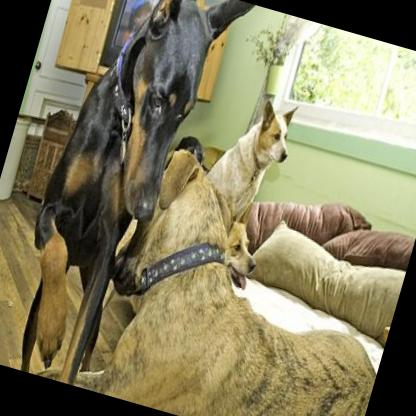Doberman: (0, 0, 257, 402)
